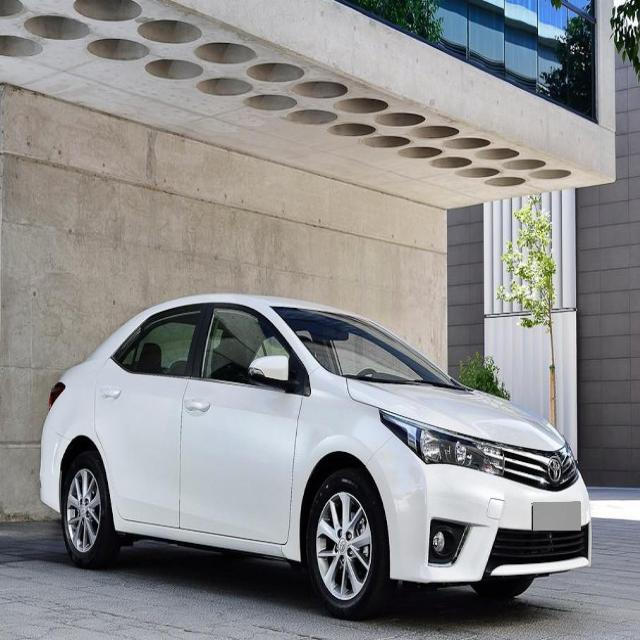back_right_side_light: (47, 379, 68, 415)
door: (94, 306, 212, 532)
front_bumper: (362, 431, 594, 584)
front_glass: (270, 304, 468, 390)
front_right_side_door: (178, 295, 308, 546)
front_right_side_light: (378, 405, 504, 474)
front_right_side_mirror: (249, 352, 299, 392)
wheel: (303, 464, 391, 620), (60, 450, 121, 566)
